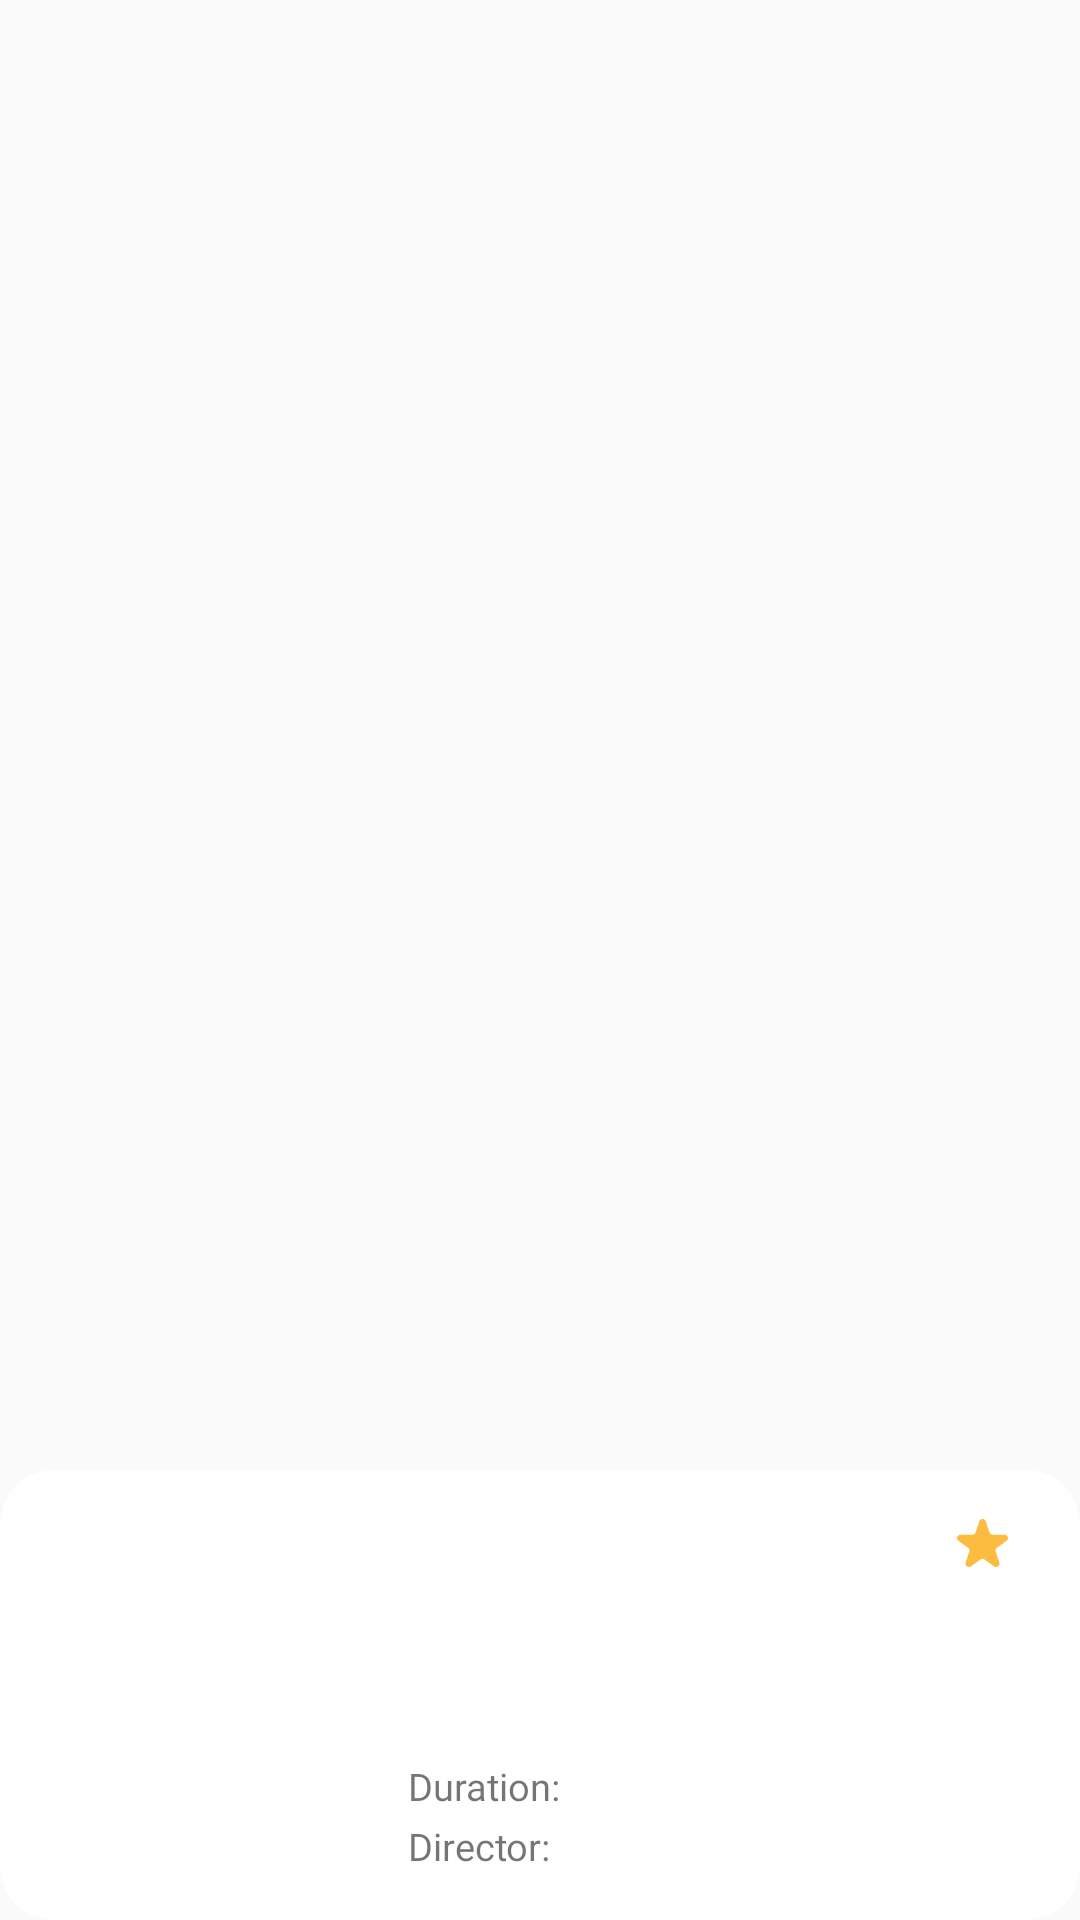

Where icons sit on this 1080*1920 app screen, as bbox=(x1, y1, x2, y2):
rating: bbox=(957, 1519, 1008, 1567)
